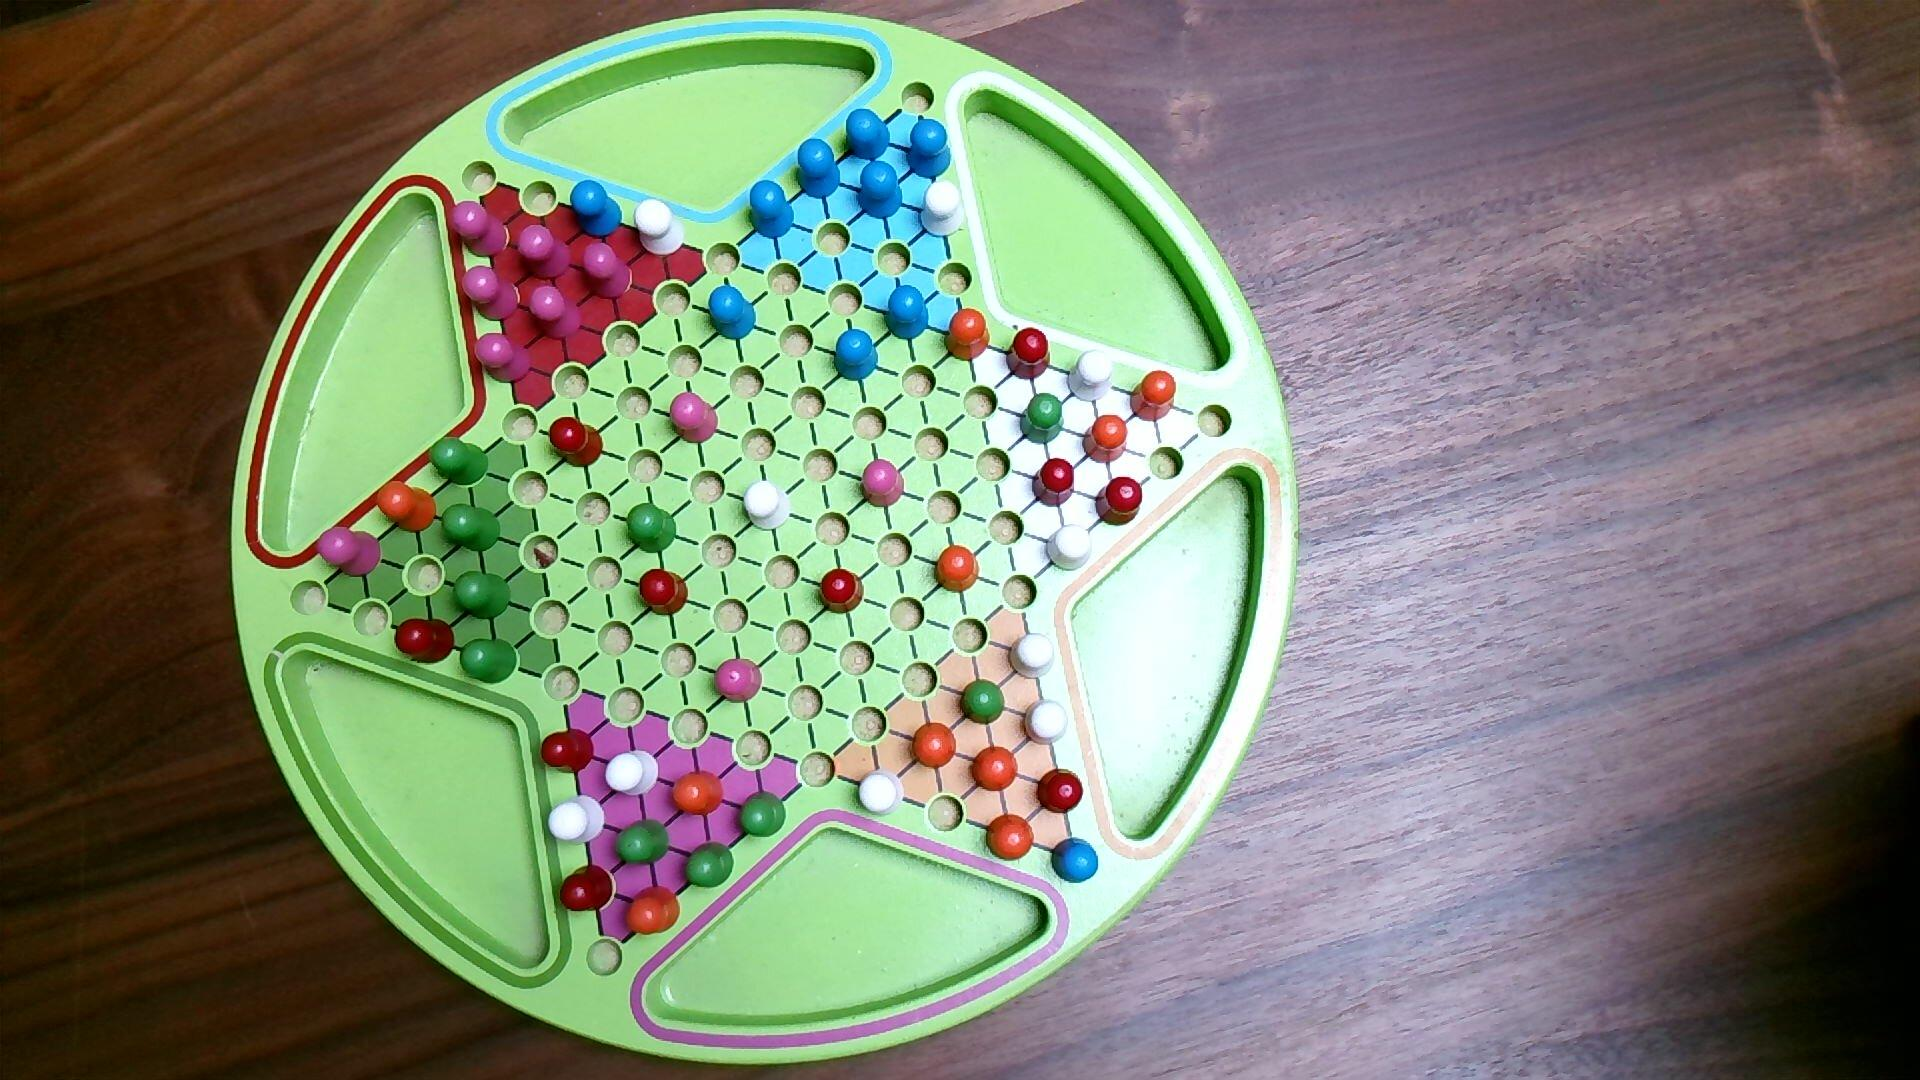B: (568, 179, 625, 241), (794, 136, 843, 202), (748, 179, 796, 243), (905, 117, 953, 181), (856, 160, 905, 222), (707, 284, 758, 342), (884, 282, 931, 343), (844, 107, 894, 164), (832, 328, 880, 384), (1050, 836, 1101, 886)
G: (451, 568, 514, 622), (429, 435, 491, 489), (439, 502, 502, 555), (460, 637, 520, 687), (625, 502, 679, 556), (613, 818, 671, 868), (682, 840, 736, 891), (737, 789, 789, 840), (1017, 392, 1065, 446), (957, 676, 1007, 728)
O: (376, 480, 439, 535), (622, 884, 683, 938), (669, 769, 727, 819), (943, 306, 992, 364), (1127, 369, 1178, 425), (982, 812, 1036, 862), (968, 744, 1021, 794), (934, 545, 982, 595), (1081, 414, 1129, 465), (911, 721, 957, 771)
R: (394, 616, 458, 667), (547, 415, 605, 469), (558, 864, 616, 914), (1005, 326, 1054, 382), (638, 567, 691, 618), (1095, 475, 1145, 529), (541, 728, 596, 775), (1030, 458, 1076, 510), (818, 567, 866, 616), (1036, 767, 1085, 816)
R2: (447, 200, 510, 260), (316, 526, 382, 580), (516, 224, 575, 284), (462, 265, 521, 323), (472, 331, 533, 386), (582, 241, 634, 302), (529, 285, 583, 342), (669, 390, 720, 447), (711, 658, 765, 705), (858, 458, 906, 510)
W: (633, 196, 688, 258), (547, 793, 608, 848), (604, 748, 661, 799), (919, 179, 967, 240), (742, 479, 794, 533), (1065, 349, 1116, 404), (1044, 524, 1095, 575), (1021, 698, 1071, 748), (857, 767, 906, 818), (1007, 632, 1056, 682)
